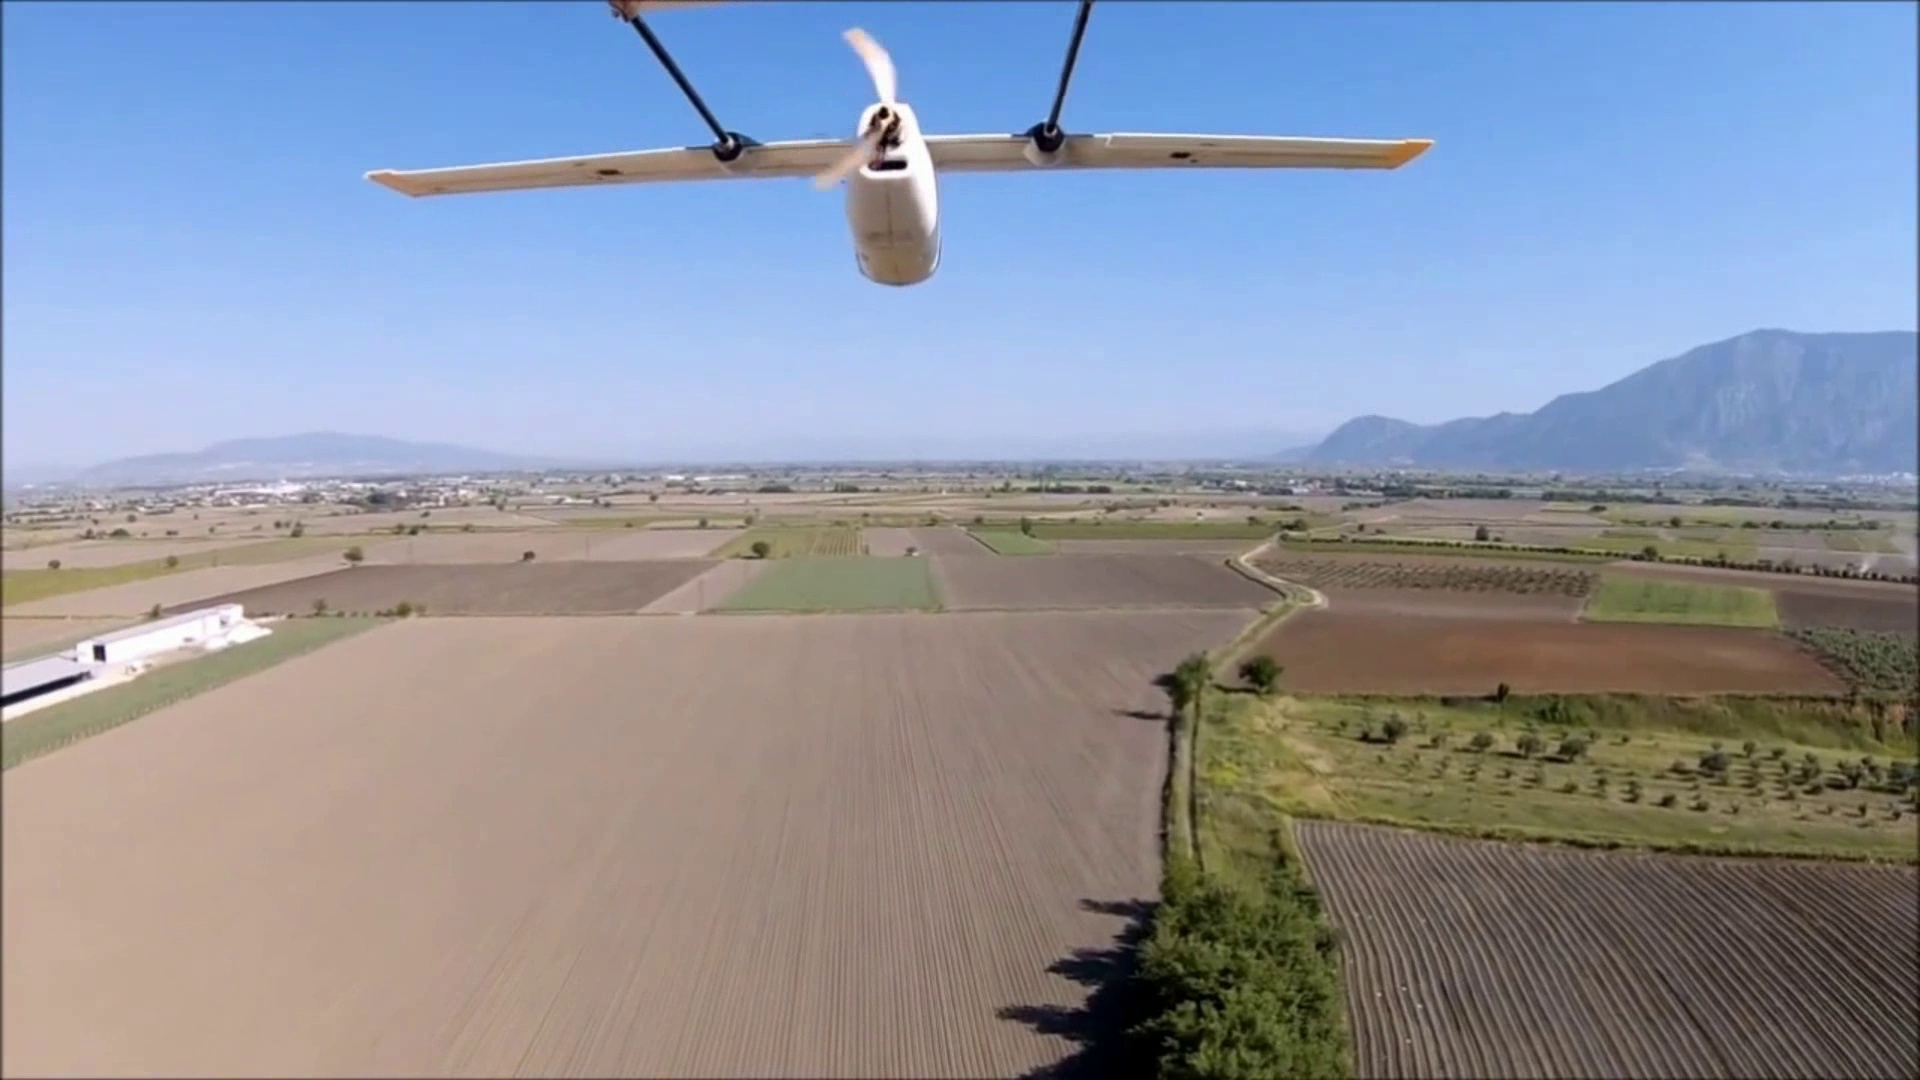airplane: (368, 4, 1433, 284)
